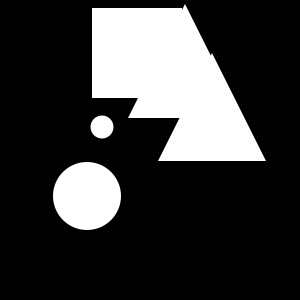circle: (92, 8, 182, 98)
rectangle: (53, 162, 121, 230), (91, 116, 114, 138)
triangle: (128, 4, 242, 118), (158, 53, 266, 161)
